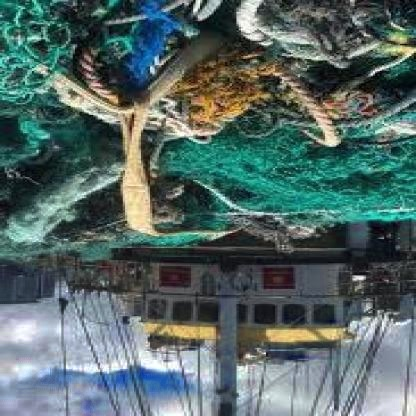net: (13, 1, 416, 243)
